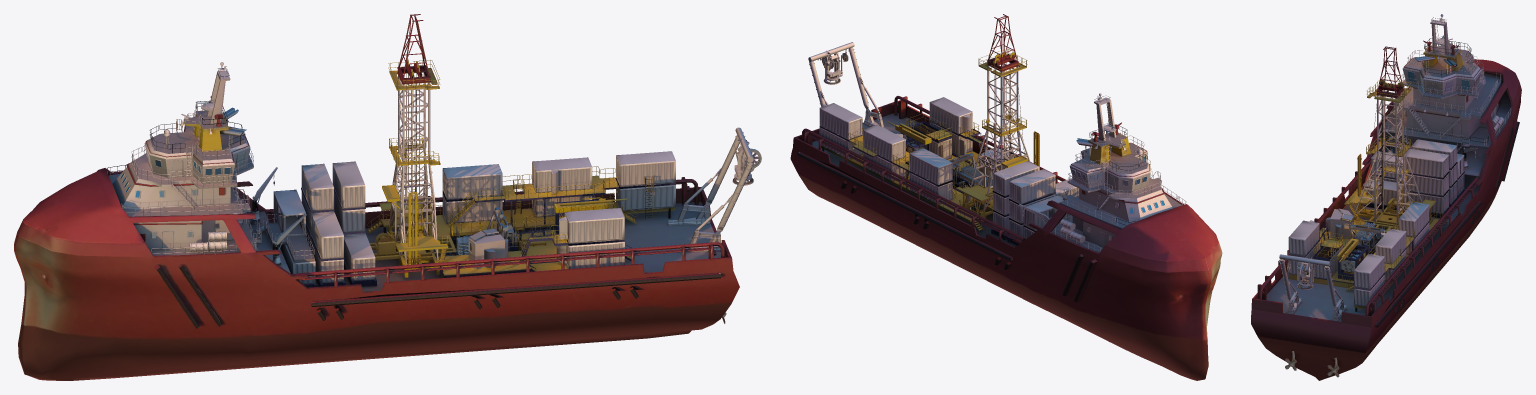
File: ship4.glb
3 views of the same model, side by side, from view 1: azimuth 30°, elevation 25°; view 2: azimuth 150°, elevation 25°; view 3: azimuth 270°, elevation 25° (orthographic). The views are drawn at different scales.
Parts seen in each view (by area): view 1: Box01_coque, Floor, etage_bas, Etage_haut, Cube.042, container.006, Plateforme_surelevee, container.002, CONTAINER, gros_tuyau, container.004, Plateforme_etage (+17 smaller); view 2: Box01_coque, etage_bas, Etage_haut, Floor, Cube.7 1, container.017, container.006, container.002, container.004, CONTAINER, gros_tuyau 1, Plateforme_surelevee (+10 smaller); view 3: Box01_coque, Floor, etage_bas, Etage_haut, container.016, CONTAINER, container.002, container.006, Cube.7 1, container.004, container.015, gros_tuyau 1 (+25 smaller).
Part boxes in pixels (x1=…): Box01_coque: x1=14, y1=168, x2=739, y2=380; Floor: x1=150, y1=198, x2=720, y2=291; etage_bas: x1=109, y1=153, x2=250, y2=249; Etage_haut: x1=144, y1=126, x2=253, y2=188; Cube.042: x1=311, y1=273, x2=720, y2=306; container.006: x1=442, y1=164, x2=502, y2=199; Plateforme_surelevee: x1=381, y1=202, x2=675, y2=237; container.002: x1=616, y1=151, x2=675, y2=186; CONTAINER: x1=564, y1=208, x2=624, y2=243; gros_tuyau: x1=297, y1=242, x2=724, y2=275; container.004: x1=532, y1=157, x2=592, y2=192; Plateforme_etage: x1=474, y1=175, x2=619, y2=202; Box01_coque: x1=790, y1=101, x2=1222, y2=380; etage_bas: x1=1059, y1=178, x2=1181, y2=244; Etage_haut: x1=1067, y1=142, x2=1151, y2=192; Floor: x1=812, y1=112, x2=1103, y2=252; Cube.7 1: x1=797, y1=152, x2=1013, y2=260; container.017: x1=1009, y1=169, x2=1055, y2=204; container.006: x1=909, y1=148, x2=952, y2=185; container.002: x1=819, y1=103, x2=862, y2=139; container.004: x1=863, y1=125, x2=905, y2=161; CONTAINER: x1=929, y1=97, x2=972, y2=134; gros_tuyau 1: x1=802, y1=128, x2=1025, y2=240; Plateforme_surelevee: x1=821, y1=145, x2=978, y2=221; Box01_coque: x1=1251, y1=59, x2=1521, y2=380; Floor: x1=1266, y1=72, x2=1511, y2=321; etage_bas: x1=1393, y1=63, x2=1502, y2=138; Etage_haut: x1=1402, y1=48, x2=1484, y2=99; container.016: x1=1404, y1=148, x2=1449, y2=177; CONTAINER: x1=1288, y1=220, x2=1319, y2=256; container.002: x1=1354, y1=254, x2=1384, y2=289; container.006: x1=1398, y1=202, x2=1429, y2=237; Cube.7 1: x1=1374, y1=201, x2=1482, y2=327; container.004: x1=1375, y1=228, x2=1406, y2=264; container.015: x1=1403, y1=173, x2=1449, y2=195; gros_tuyau 1: x1=1365, y1=177, x2=1478, y2=315.
Bounding box in the file's own units: 7.59 × 3.97 × 3.87.
Materials: 3 (3 with a texture image).
